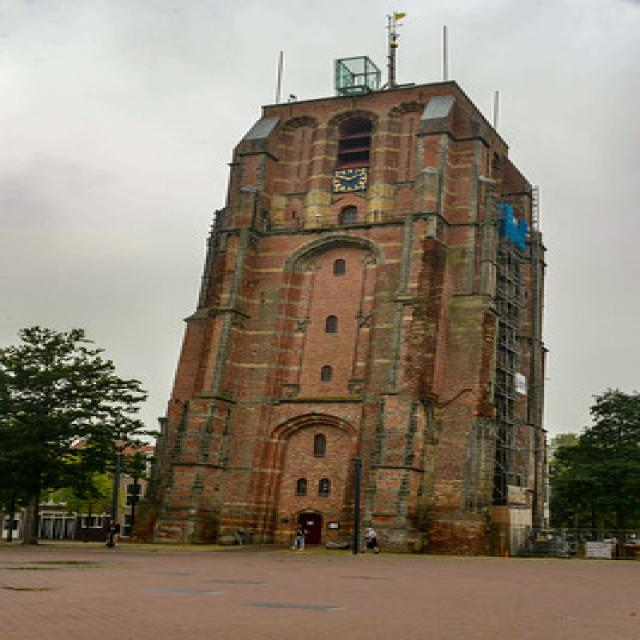Normal_building: (113, 64, 551, 562)
